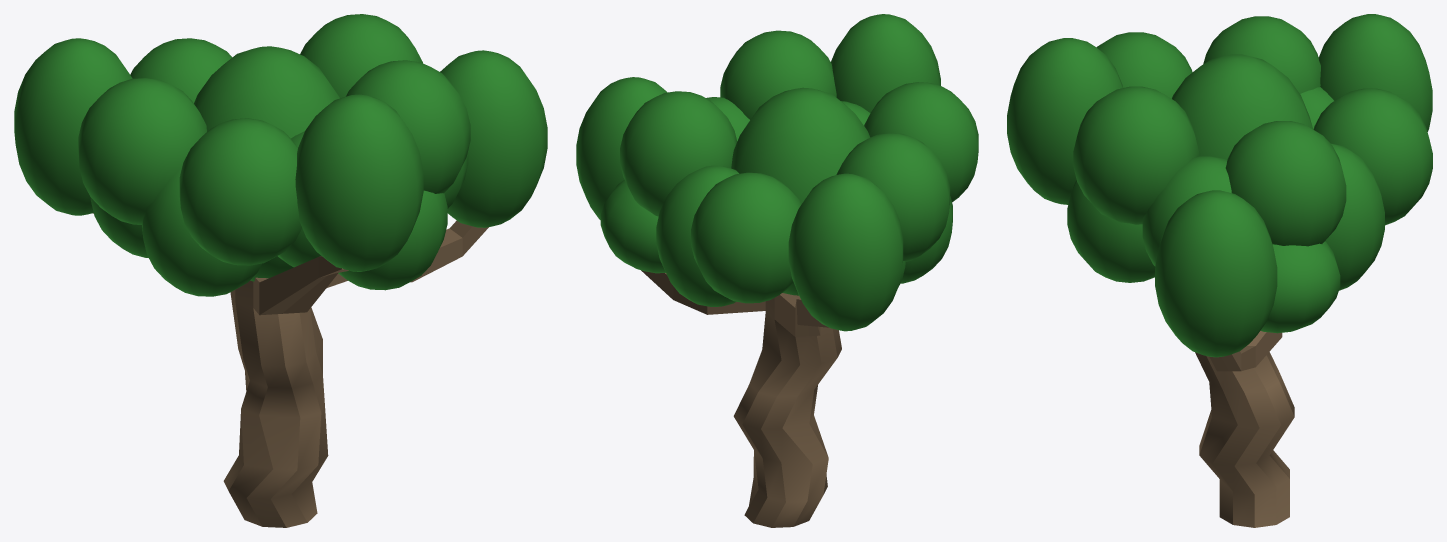
File: tree3.fbx
3 views of the same model, side by side, from view 1: azimuth 30°, elevation 25°; view 2: azimuth 150°, elevation 25°; view 3: azimuth 270°, elevation 25° (orthographic). The views are drawn at different scales.
Visible parts, largest first — view 1: tree3; view 2: tree3; view 3: tree3.
Part boxes in pixels (x1,y1,x2,y2): tree3: (14,14,547,527); tree3: (576,14,978,527); tree3: (1007,14,1432,527).
Size of the model in its own units: 12.75 by 13.79 by 11.52.
